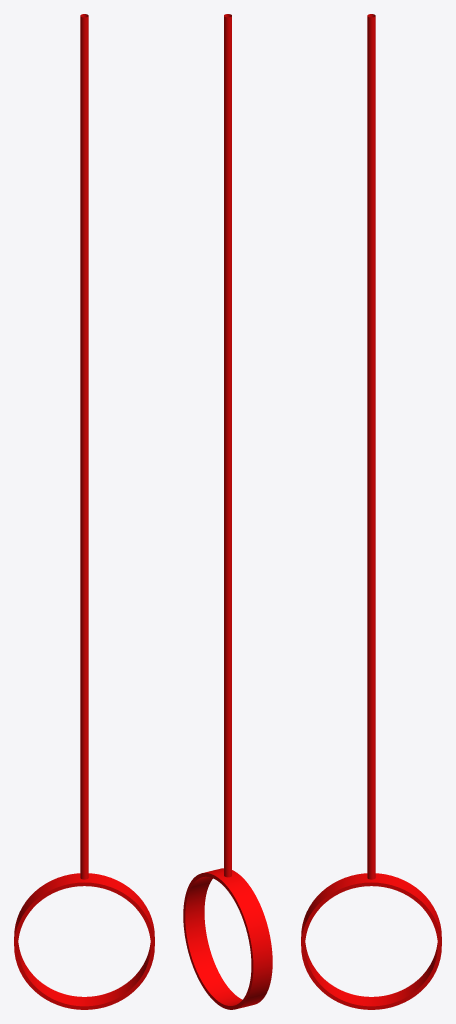
Rendered from cutter1_circle.fbx.
3 views of the same model, side by side, from view 1: azimuth 90°, elevation 25°; view 2: azimuth 210°, elevation 25°; view 3: azimuth 270°, elevation 25° (orthographic).
Parts seen in each view (by area): view 1: Cutter1_Circle; view 2: Cutter1_Circle; view 3: Cutter1_Circle.
Part boxes in pixels (x1=…): Cutter1_Circle: x1=14, y1=14, x2=154, y2=1009; Cutter1_Circle: x1=183, y1=14, x2=272, y2=1009; Cutter1_Circle: x1=301, y1=14, x2=441, y2=1009.
Bounding box in the file's own units: 16.84 × 823 × 106.
